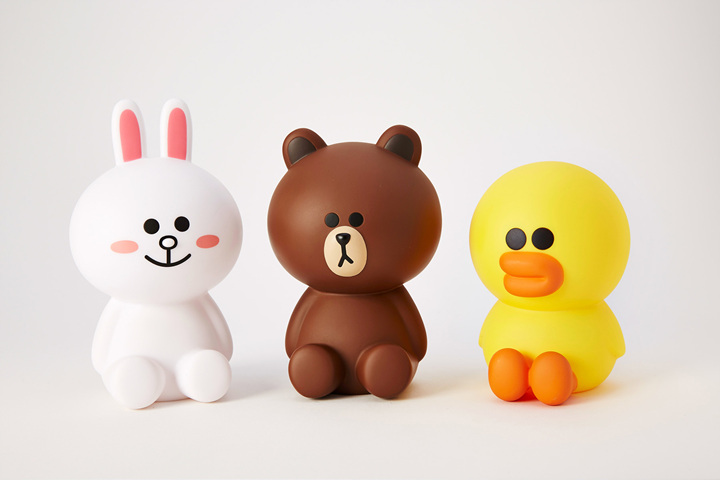line_brown: (249, 123, 450, 301)
